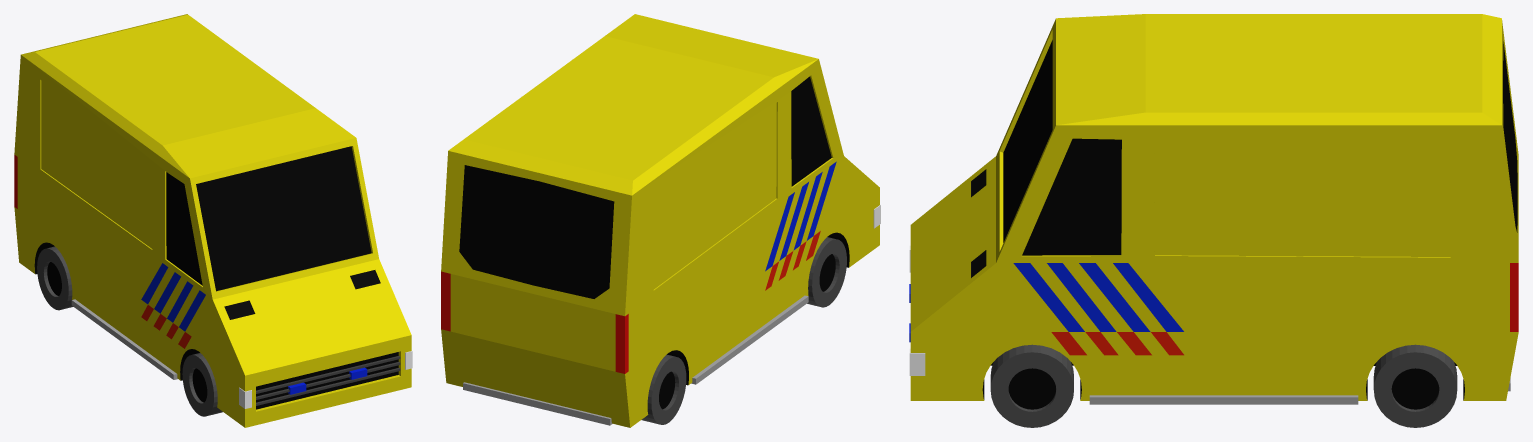
File: Ambulance.fbx
3 renders of one model, left to right at view 1: azimuth 30°, elevation 25°; view 2: azimuth 150°, elevation 25°; view 3: azimuth 270°, elevation 25°, orthographic. The views are drawn at different scales.
Visible parts, largest first — view 1: Ambulance, Wheel, Wheel2, Rail, Grill2, Grill3, Grill, Cube; view 2: Ambulance, Wheel2, Wheel, Cube.001, Rail; view 3: Ambulance, Wheel2, Wheel, Rail.
Part boxes in pixels (<box>): Ambulance: <box>14,14,411,427</box>; Wheel: <box>182,353,222,416</box>; Wheel2: <box>37,246,73,310</box>; Rail: <box>71,299,177,379</box>; Grill2: <box>256,356,400,393</box>; Grill3: <box>256,368,400,405</box>; Grill: <box>256,362,400,399</box>; Cube: <box>239,351,412,408</box>; Ambulance: <box>441,14,879,427</box>; Wheel2: <box>641,354,686,424</box>; Wheel: <box>807,237,846,307</box>; Cube.001: <box>463,382,612,425</box>; Rail: <box>691,295,808,384</box>; Ambulance: <box>910,14,1518,400</box>; Wheel2: <box>1373,344,1457,427</box>; Wheel: <box>990,344,1073,427</box>; Rail: <box>1089,395,1358,404</box>.
Size of the model in its own units: 260 by 338 by 601.
